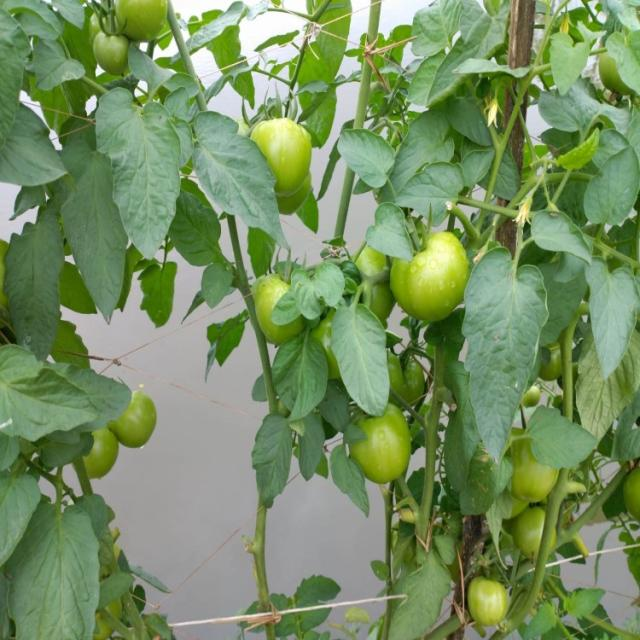tomato: (394, 232, 470, 323), (255, 120, 312, 211), (348, 408, 413, 486), (511, 433, 557, 504), (508, 507, 560, 566), (258, 273, 305, 337), (350, 245, 392, 314), (123, 388, 157, 450), (468, 578, 510, 625), (82, 431, 119, 481), (111, 1, 172, 31), (597, 51, 630, 102), (317, 318, 346, 375), (99, 35, 128, 76), (625, 466, 640, 527), (542, 347, 566, 379), (525, 386, 539, 408)
